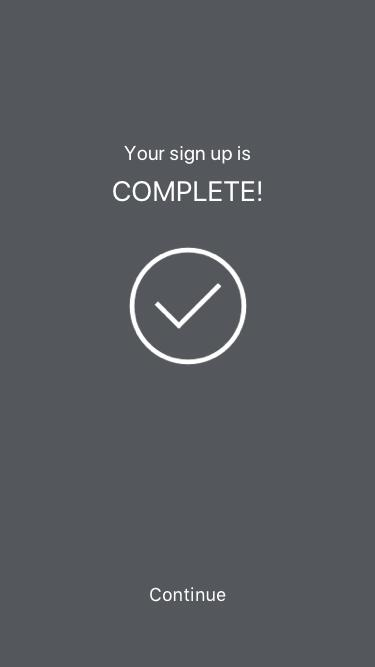Image: (130, 248, 247, 365)
Text: (114, 181, 262, 202), (124, 146, 251, 165), (150, 587, 227, 602)
